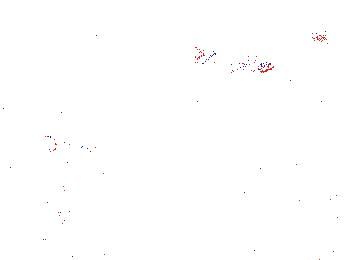glassfish: (39, 130, 139, 182)
red belly glassfish: (315, 25, 346, 45)
redtail glassfish: (191, 43, 274, 72)
